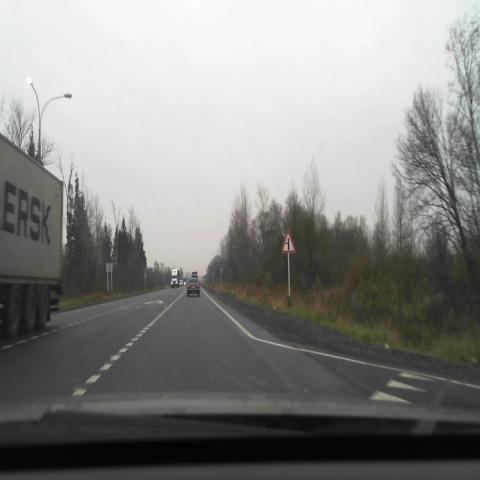2_3_3: (282, 228, 296, 253)
